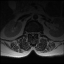CCS_normal: (32, 30, 33, 37)
LFS_stenosis: (35, 30, 36, 35)
LLS_normal: (33, 30, 35, 35)
RFS_stenosis: (28, 31, 30, 34)
RLS_normal: (30, 30, 32, 35)
